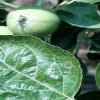Apple Scab Leaf: (1, 34, 84, 99)
